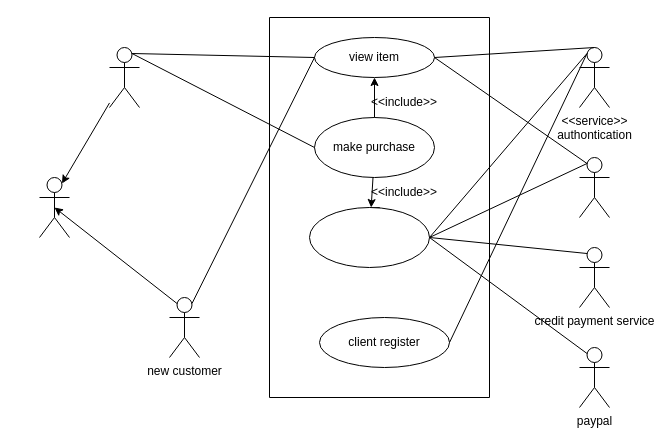
The diagram is 672 pixels wide and 446 high, and some of its shapes have lost their labels. The box of each missing label's shape, as (x1, y1, x2, y2) in pixels:
chechout: (308, 206, 430, 268)
identify provider: (578, 156, 610, 218)
registered customer: (108, 46, 140, 108)
web customer: (38, 176, 70, 238)
